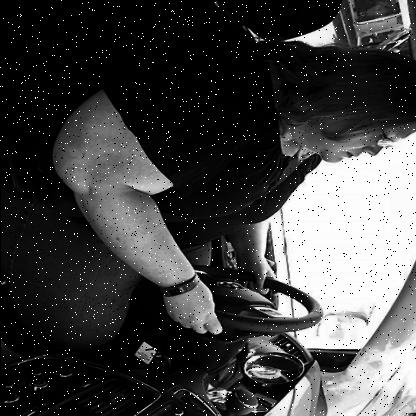seatbelt: (169, 28, 416, 240)
